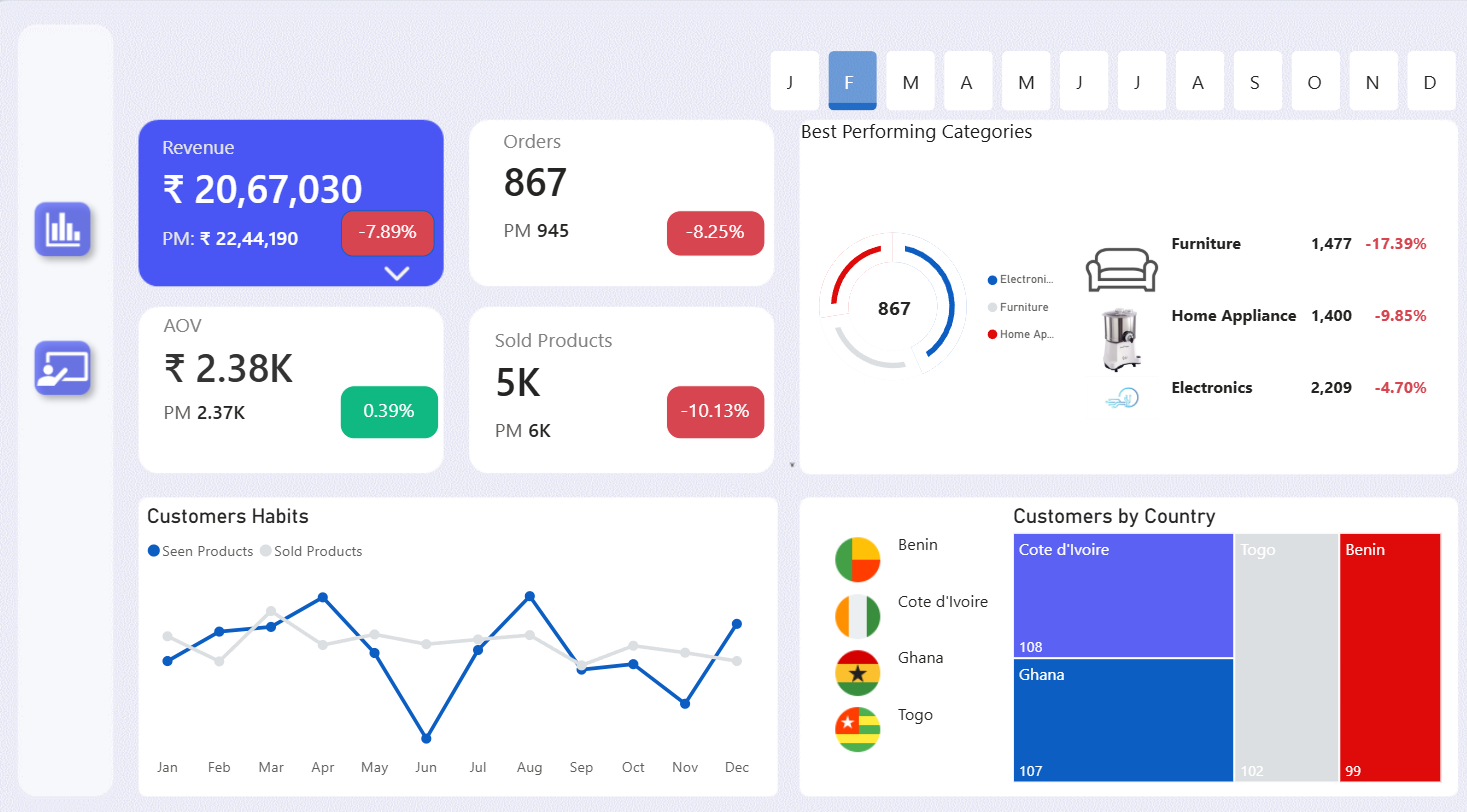

This screenshot's page, from the dashboard's own definition file:
{"tool":"powerbi","page":{"name":"Overview","canvas":[1280,720],"ordinal":0},"visuals":[{"type":"cardVisual","fields":{"Data":["_Measures.Revenue"]},"box":[133.8,114.5,230.5,153.2],"z":0},{"type":"advancedSlicerVisual","fields":{"Values":["Calendar.Month Intital"]},"box":[661.7,55,579.9,59.5],"z":1000},{"type":"card","fields":{"Values":["_Measures.Revenue Growth"]},"box":[310.8,191.8,77.3,38.7],"z":2000},{"type":"cardVisual","fields":{"Data":["_Measures.Orders"]},"box":[417,108.9,231.5,151.5],"z":3000},{"type":"card","fields":{"Values":["_Measures.Orders Growth"]},"box":[580.3,191.8,82,38.6],"z":4000},{"type":"card","fields":{"Values":["_Measures.AOV Growth"]},"box":[309.4,336.9,82.4,44.8],"z":5000},{"type":"cardVisual","fields":{"Data":["_Measures.Sold Products"]},"box":[408.9,275.1,230.5,150.2],"z":6000},{"type":"card","fields":{"Values":["_Measures.Sold Product Growth"]},"box":[580.3,336.6,82,44.6],"z":7000},{"type":"cardVisual","fields":{"Data":["_Measures.AOV"]},"box":[134.5,264.6,229.9,143.2],"z":8000},{"type":"actionButton","title":"S","box":[342.7,230.2,33.6,28.5],"z":9000},{"type":"lineChart","title":"Customers Habits","fields":{"Category":["Calendar.Month"],"Y":["_Measures.Seen Products","_Measures.Sold Products"]},"box":[145.6,435.5,516.3,236.4],"z":11000},{"type":"donutChart","title":"Best Performing Categories","fields":{"Category":["Products.Category"],"Y":["_Measures.Sold Products"]},"box":[687.5,113.9,229.2,293.7],"z":12000},{"type":"tableEx","fields":{"Values":["Products Img.Column2","Products.Category","_Measures.Sold Products","_Measures.Sold Product Growth"]},"box":[916.6,177,344.4,258],"z":13000},{"type":"card","fields":{"Values":["_Measures.Orders"]},"box":[746.5,211.3,112.5,118],"z":14000},{"type":"treemap","fields":{"Values":["_Measures.Customers"],"Group":["Customers.Country"]},"box":[863.1,435,365,236],"z":15000},{"type":"tableEx","fields":{"Values":["Customers.Column2","Customers.Country"]},"box":[705.3,424,275.8,260.7],"z":16000},{"type":"actionButton","box":[22,177,97.4,67.2],"z":17000},{"type":"actionButton","box":[22,292.3,97.4,67.2],"z":18000}]}

Visuals, with their boxes on the page's 1280x720 design canvas (x1, y1, x2, y2). These are canvas units, not pixel positions in the 1467x812 screenshot, which may show the page scaled, cropped or inside an application window:
cardVisual - _Measures.Revenue: pyautogui.locateOnScreen(134, 114, 364, 268)
advancedSlicerVisual - Calendar.Month Intital: pyautogui.locateOnScreen(662, 55, 1242, 114)
card - _Measures.Revenue Growth: pyautogui.locateOnScreen(311, 192, 388, 230)
cardVisual - _Measures.Orders: pyautogui.locateOnScreen(417, 109, 648, 260)
card - _Measures.Orders Growth: pyautogui.locateOnScreen(580, 192, 662, 230)
card - _Measures.AOV Growth: pyautogui.locateOnScreen(309, 337, 392, 382)
cardVisual - _Measures.Sold Products: pyautogui.locateOnScreen(409, 275, 639, 425)
card - _Measures.Sold Product Growth: pyautogui.locateOnScreen(580, 337, 662, 381)
cardVisual - _Measures.AOV: pyautogui.locateOnScreen(134, 265, 364, 408)
"S" actionButton: pyautogui.locateOnScreen(343, 230, 376, 259)
"Customers Habits" lineChart: pyautogui.locateOnScreen(146, 436, 662, 672)
"Best Performing Categories" donutChart: pyautogui.locateOnScreen(688, 114, 917, 408)
tableEx - Products Img.Column2 x Products.Category: pyautogui.locateOnScreen(917, 177, 1261, 435)
card - _Measures.Orders: pyautogui.locateOnScreen(746, 211, 859, 329)
treemap - _Measures.Customers x Customers.Country: pyautogui.locateOnScreen(863, 435, 1228, 671)
tableEx - Customers.Column2 x Customers.Country: pyautogui.locateOnScreen(705, 424, 981, 685)
actionButton: pyautogui.locateOnScreen(22, 177, 119, 244)
actionButton: pyautogui.locateOnScreen(22, 292, 119, 360)
